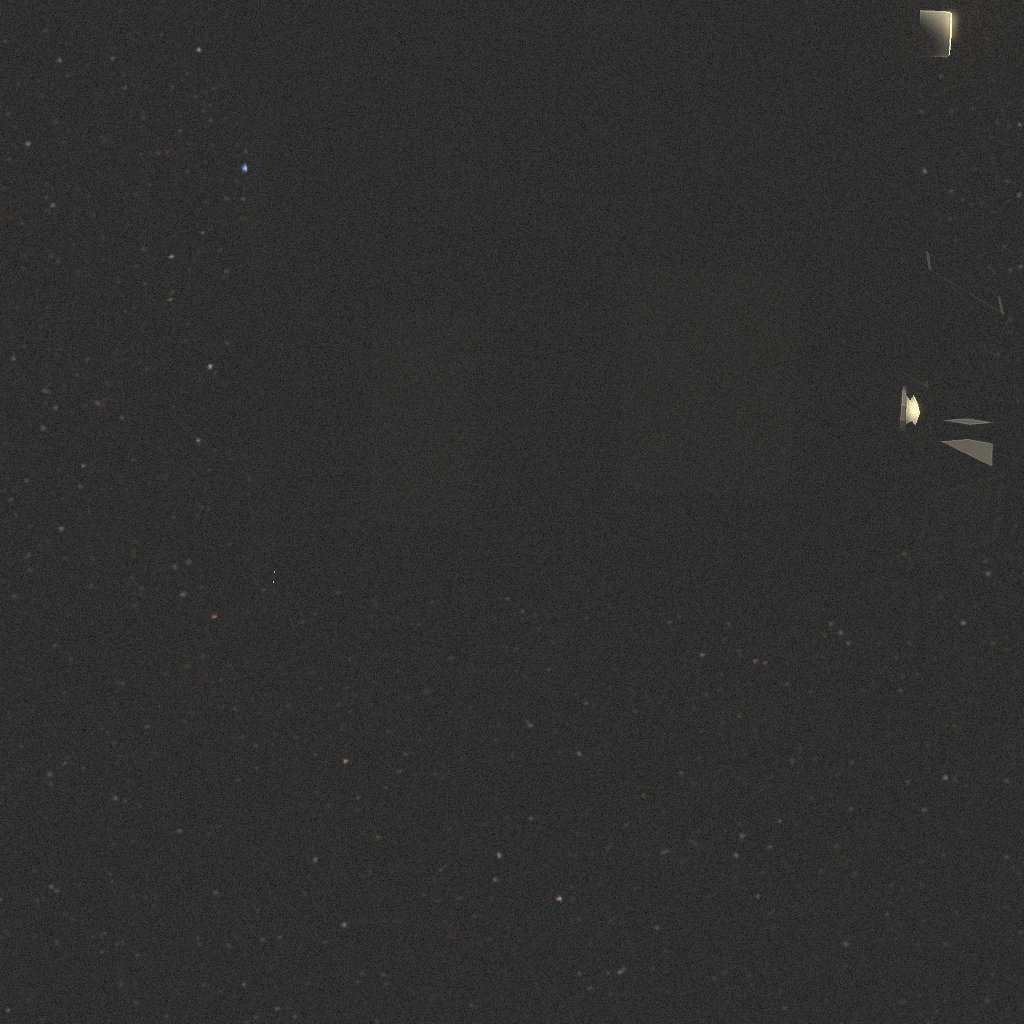proba_3_ocs: (211, 0, 1024, 628)
